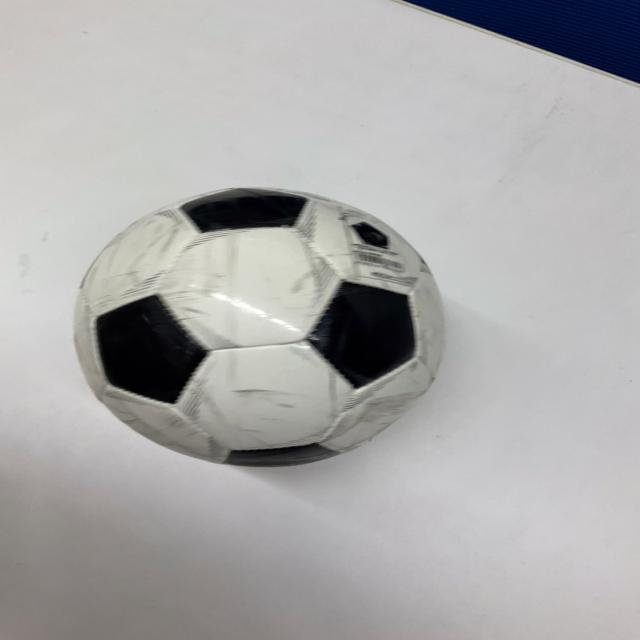ball: (76, 187, 440, 469)
